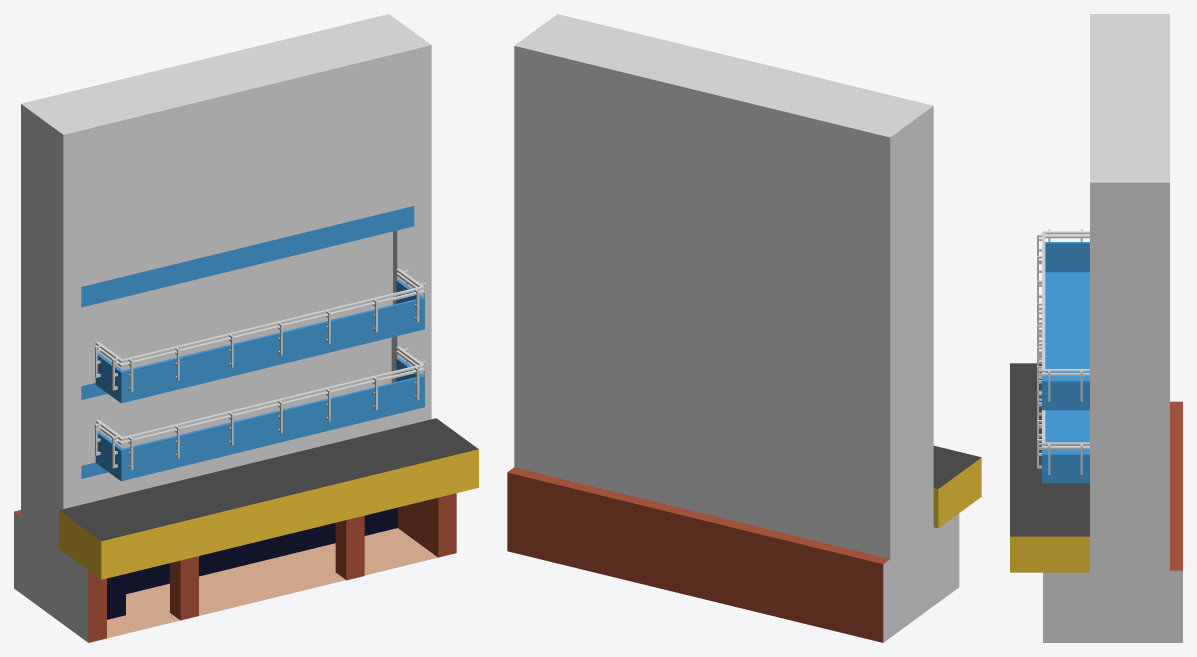
The model's file is saldanhaUnido.glb.
3 views of the same model, side by side, from view 1: azimuth 30°, elevation 25°; view 2: azimuth 150°, elevation 25°; view 3: azimuth 270°, elevation 25° (orthographic). The views are drawn at different scales.
Visible parts, largest first — view 1: Plane.001; view 2: Plane.001; view 3: Plane.001.
Boxes of the visible parts, box(x1,y1,x2,y2) form: Plane.001: box(14, 14, 478, 642); Plane.001: box(507, 14, 981, 642); Plane.001: box(1010, 14, 1182, 642).
Bounding box in the file's own units: 10.25 × 12.72 × 4.32.
